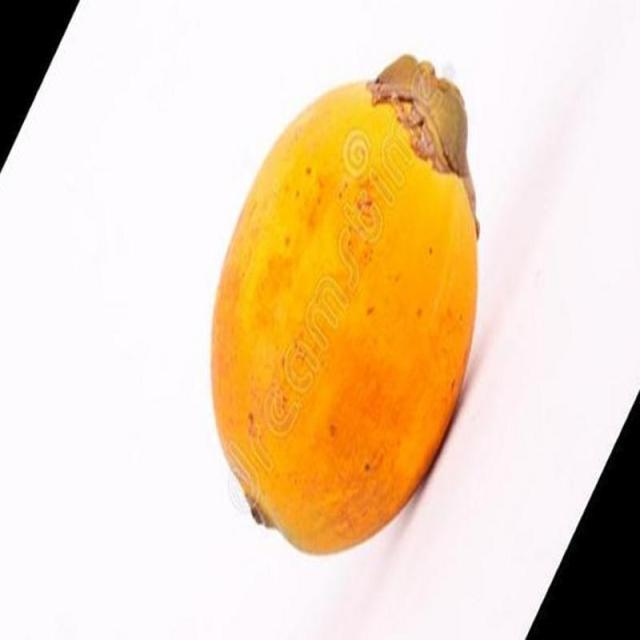good: (208, 55, 480, 560)
